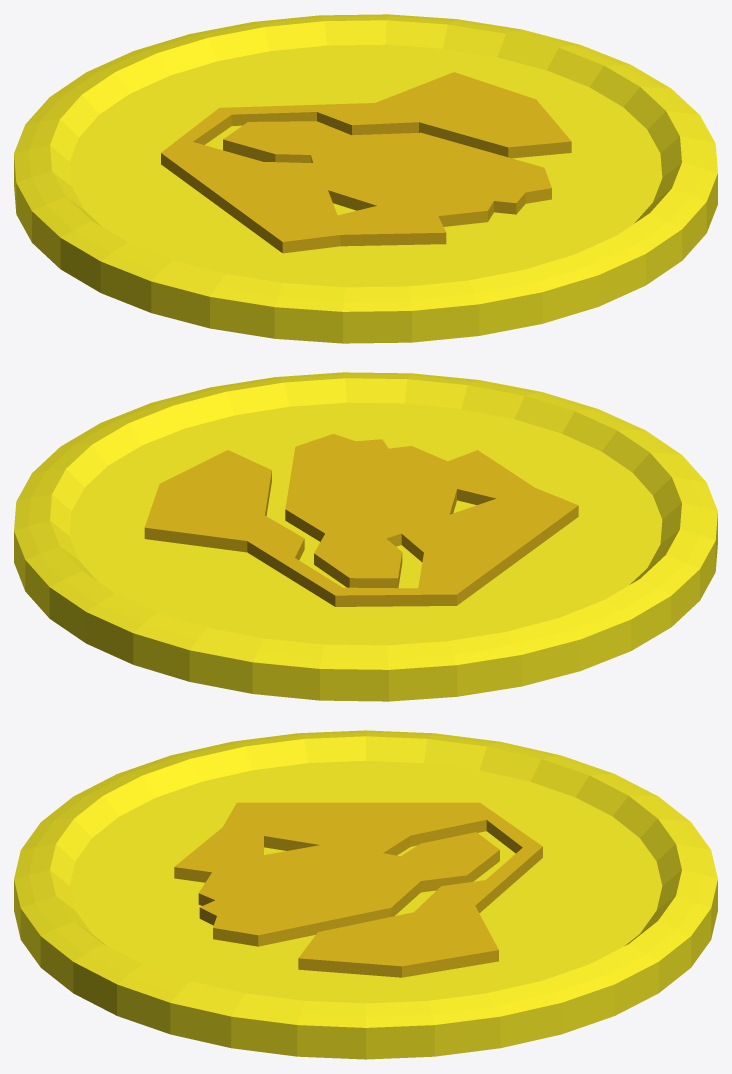
File: gold_coin.fbx
3 views of the same model, one above another, from view 1: azimuth 30°, elevation 25°; view 2: azimuth 150°, elevation 25°; view 3: azimuth 270°, elevation 25° (orthographic).
Visible parts, largest first — view 1: Cylinder, Plane; view 2: Cylinder, Plane; view 3: Cylinder, Plane.
Part boxes in pixels (<box>): Cylinder: <box>14,14,717,343</box>; Plane: <box>161,72,571,253</box>; Cylinder: <box>14,372,717,701</box>; Plane: <box>144,434,578,606</box>; Cylinder: <box>14,730,717,1059</box>; Plane: <box>174,802,542,977</box>.
Size of the model in its own units: 200 by 15.74 by 200.
